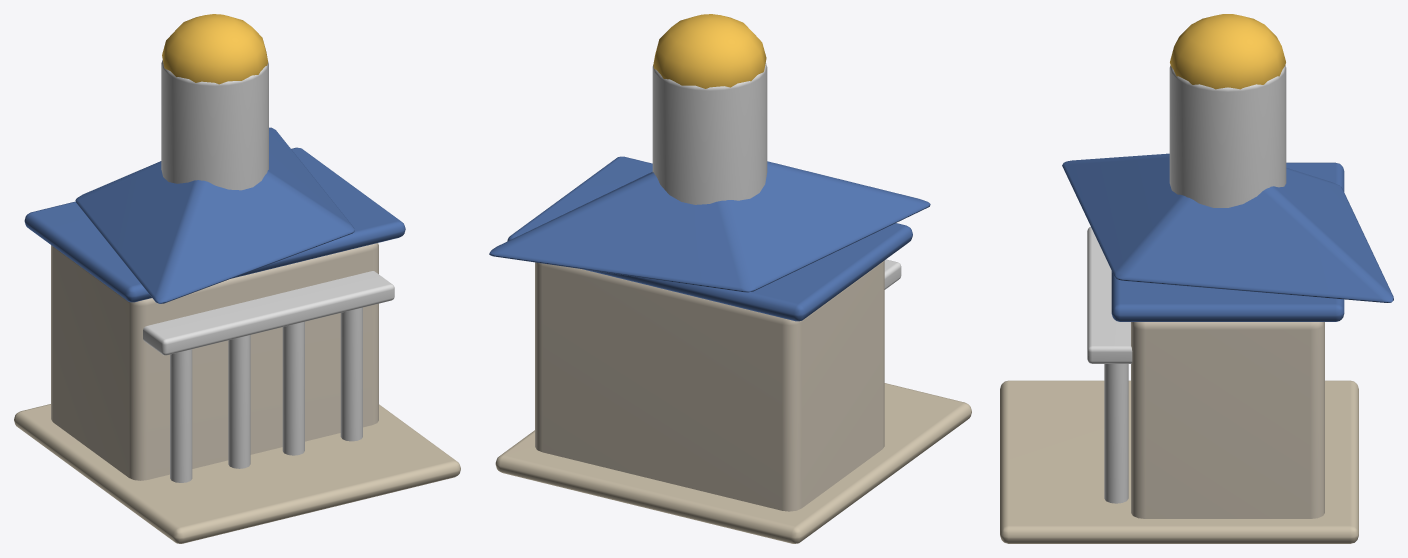
The picture shows the model from 3 angles, left to right: view 1: azimuth 30°, elevation 25°; view 2: azimuth 150°, elevation 25°; view 3: azimuth 270°, elevation 25°; orthographic projection. The views are drawn at different scales.
Visible parts, largest first — view 1: Cube; view 2: Cube; view 3: Cube.
Boxes of the visible parts, x1,y1,x2,y2 form: Cube: [14, 14, 460, 543]; Cube: [489, 14, 971, 543]; Cube: [1000, 14, 1393, 543].
Bounding box in the file's own units: 0.74 × 1.03 × 0.8121.
